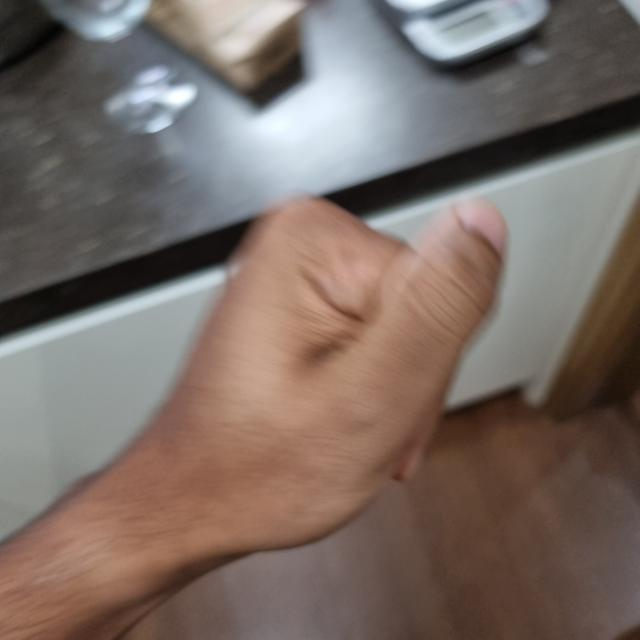Rock: (144, 196, 504, 548)
